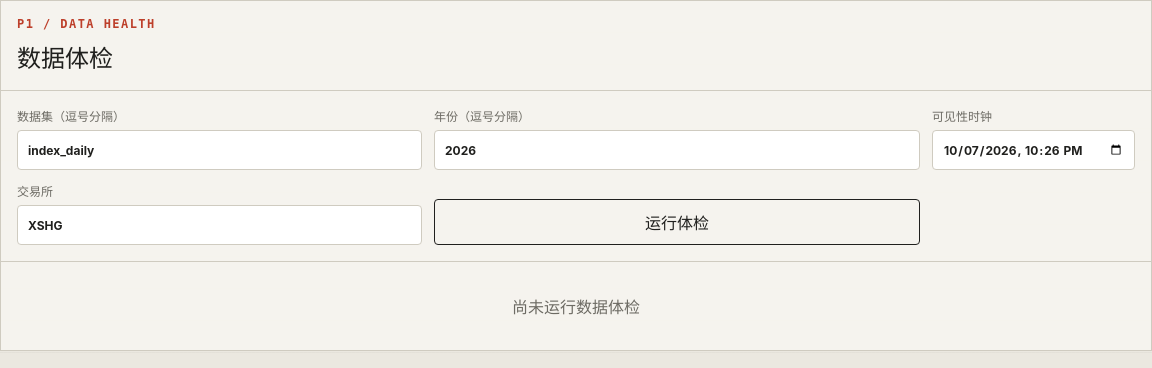
Test: DataHealthPage › refuses an empty form locally instead of sending a request that must 422
Replace the text in the field labelled "数据集（逗号分隔）" with "  ,  " at (220, 150), box [17,130,422,170]
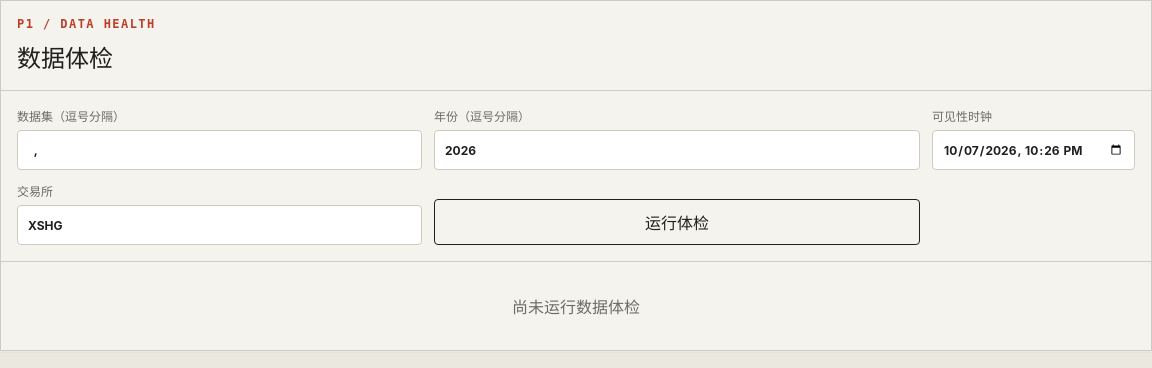
Click the button "运行体检".
click(677, 222)  # box [434,199,920,245]
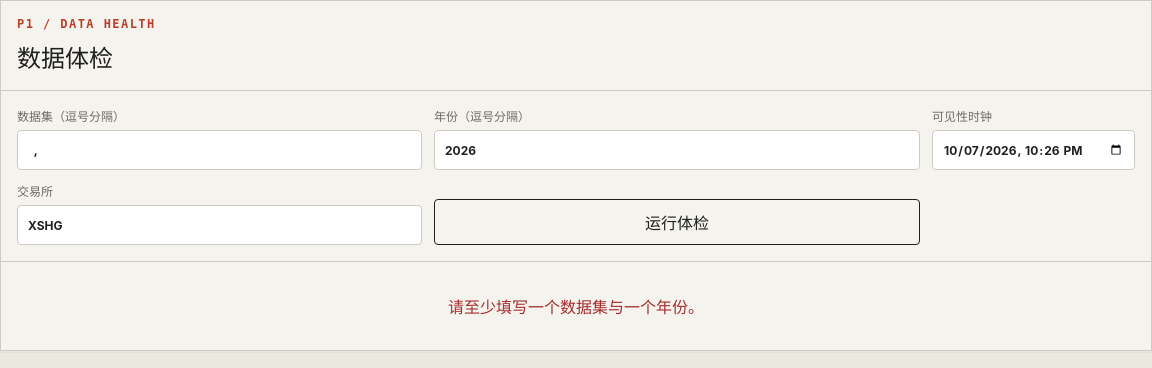
expect the message reads "请至少填写一个数据集与一个年份。": met, box [448,297,704,317]
